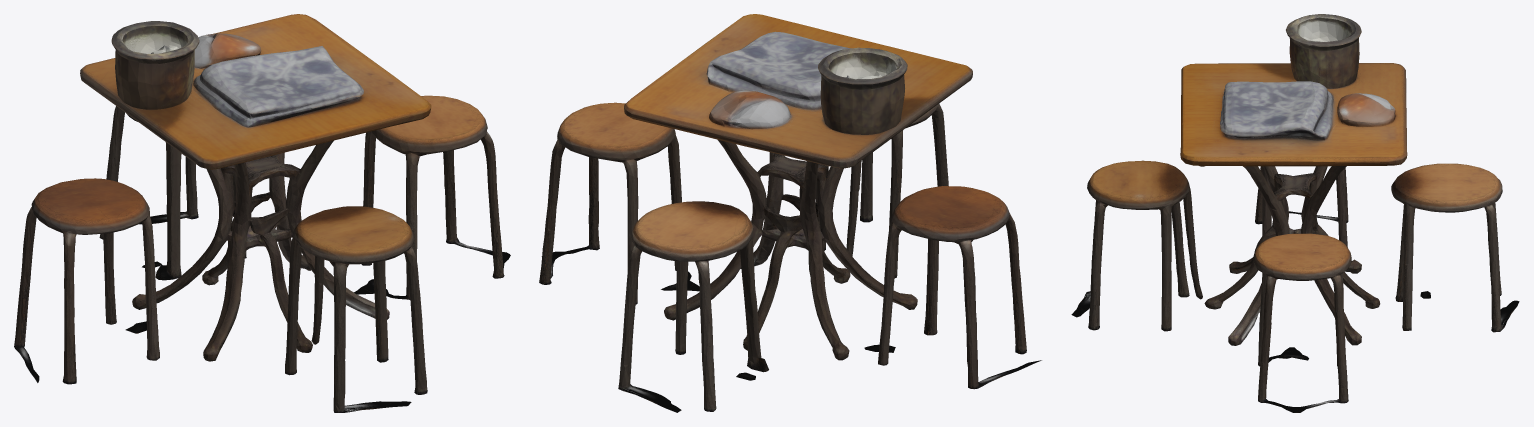
3 views of the same model, side by side, from view 1: azimuth 30°, elevation 25°; view 2: azimuth 150°, elevation 25°; view 3: azimuth 270°, elevation 25° (orthographic). The views are drawn at different scales.
Visible parts, largest first — view 1: world.002; view 2: world.002; view 3: world.002.
Part boxes in pixels (x1,y1,x2,y2): world.002: [14, 14, 510, 412]; world.002: [539, 14, 1041, 412]; world.002: [1071, 14, 1519, 412].
Size of the model in its own units: 99.19 by 56.25 by 92.74.
Materials: 1 (1 with a texture image).
